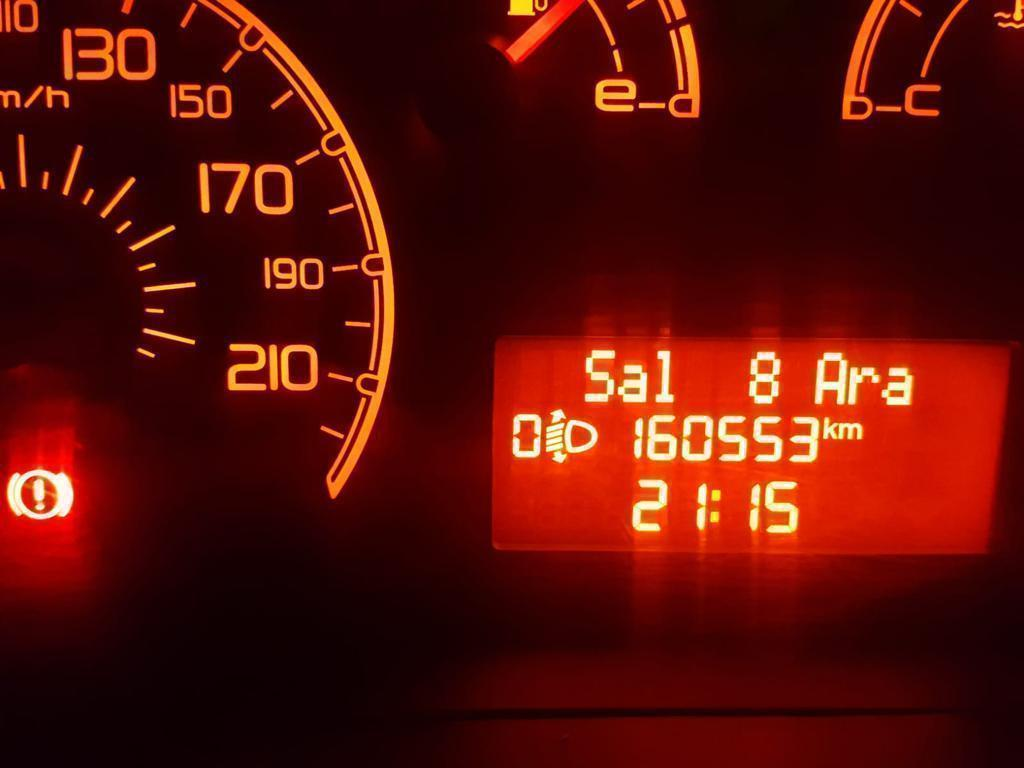0: (679, 410, 715, 465), (507, 410, 544, 460)
1: (741, 480, 762, 534), (692, 479, 708, 534), (628, 414, 642, 461)
2: (628, 475, 670, 536)
3: (787, 414, 818, 464)
5: (763, 475, 802, 536), (750, 413, 786, 464), (716, 413, 748, 464)
6: (645, 412, 678, 464)
8: (745, 348, 781, 406)
X: (581, 344, 615, 407), (813, 347, 846, 408), (882, 364, 918, 408), (848, 363, 881, 407), (655, 345, 677, 407), (618, 362, 649, 405), (708, 483, 723, 528), (836, 420, 865, 441), (821, 413, 836, 441)
odometer: (481, 324, 1021, 564)
